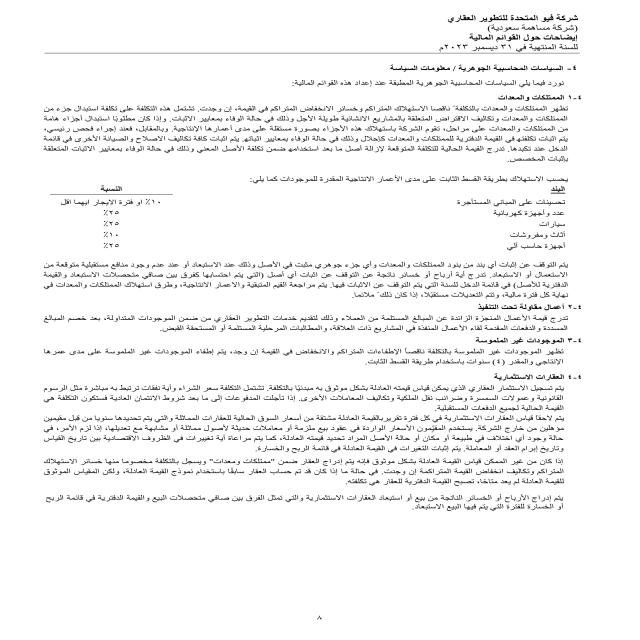notes: (463, 32, 583, 44)
text: (22, 60, 589, 530)
